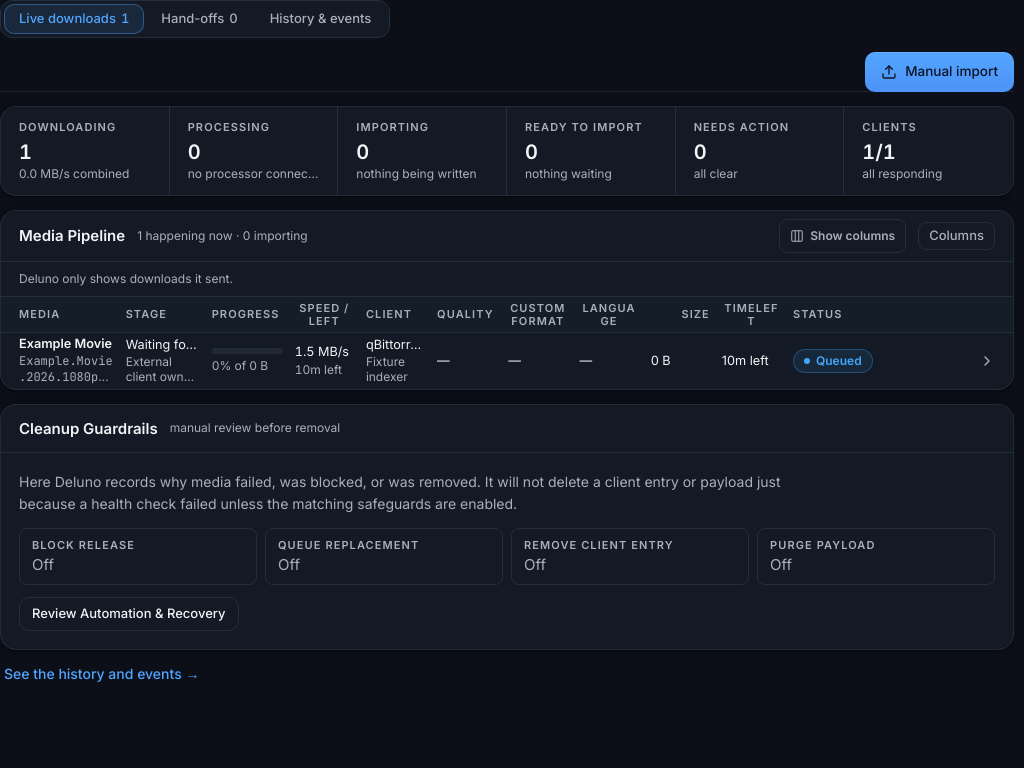
Test: download drawer: availability, last activity and completion (#970) › offers no Preview import or Queue import for a magnet that has no files yet (#1138)
Click the text "Example.Movie.2026.1080p.WEB-DL-GROUP" at x=507, y=360, box left=1, top=332, right=1013, bottom=388
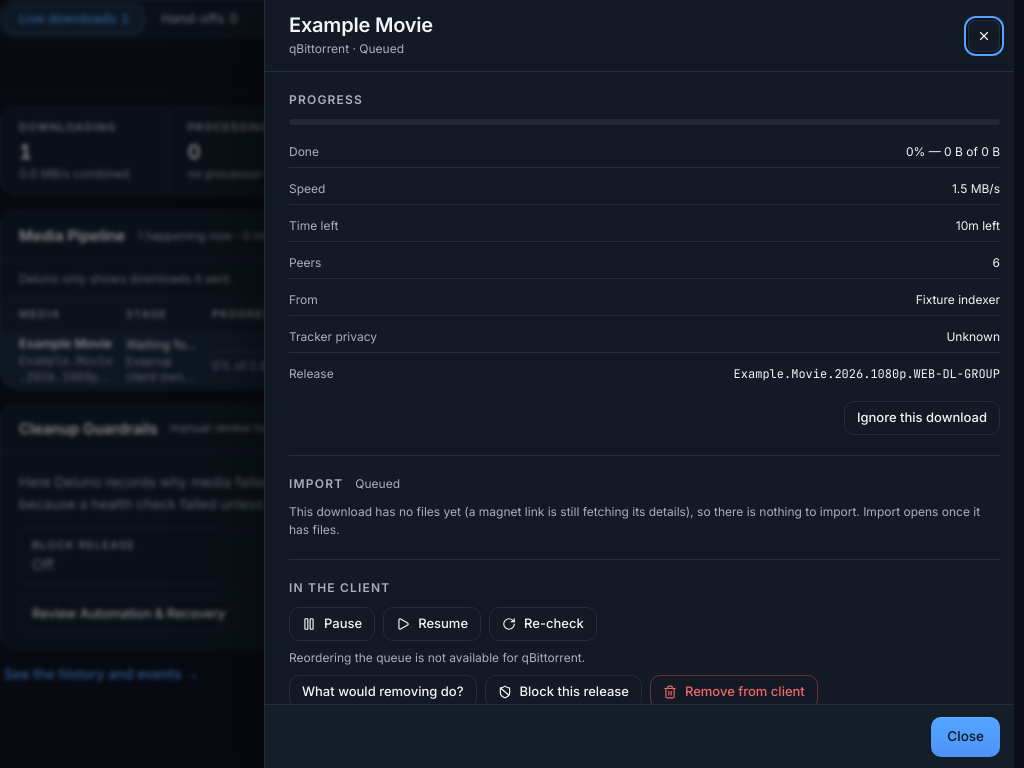
Expected: the text "no files yet" is shown, left=289, top=504, right=980, bottom=537
